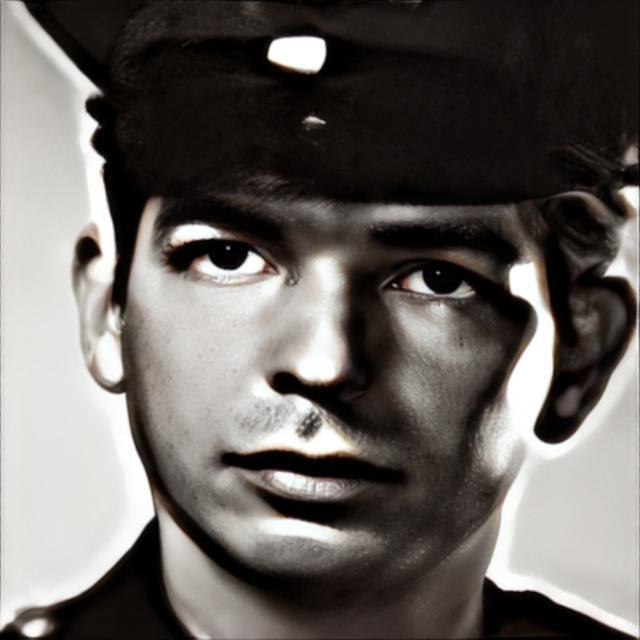neutral: (122, 143, 556, 602)
